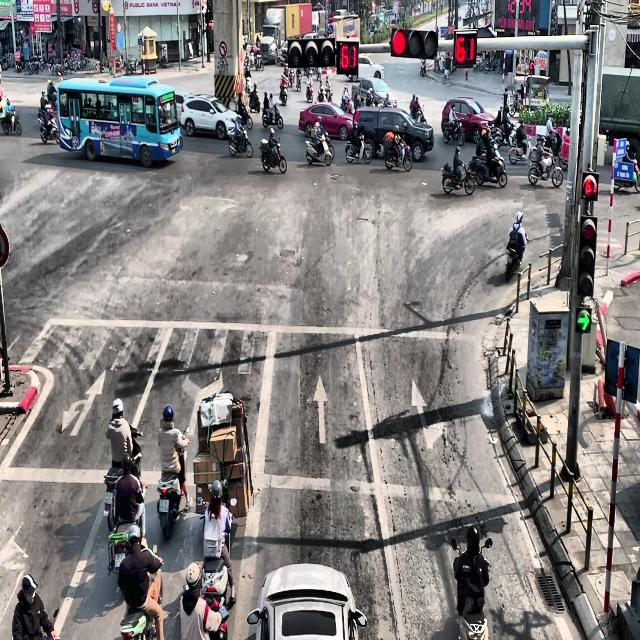BUS: (56, 76, 183, 167)
CAR: (247, 562, 367, 640), (180, 94, 241, 140), (441, 96, 497, 144), (298, 102, 354, 140), (351, 77, 397, 109)
MOTORBIKE: (103, 425, 143, 531), (120, 544, 164, 640), (451, 537, 492, 639), (157, 426, 190, 540), (528, 147, 564, 188), (475, 148, 507, 188), (441, 160, 475, 196), (383, 137, 412, 172), (258, 138, 286, 174), (306, 130, 334, 166), (344, 131, 373, 164), (38, 105, 60, 144), (227, 126, 253, 158), (506, 241, 526, 282), (0, 96, 21, 135), (509, 135, 532, 164), (442, 118, 465, 146), (262, 102, 283, 128), (238, 105, 252, 130), (411, 103, 427, 124), (340, 94, 353, 114), (249, 90, 260, 112), (279, 81, 288, 106), (305, 80, 314, 102)
TRAFFIC_LIGHT: (576, 169, 599, 298), (389, 26, 438, 58), (453, 29, 478, 66), (336, 40, 359, 76)
